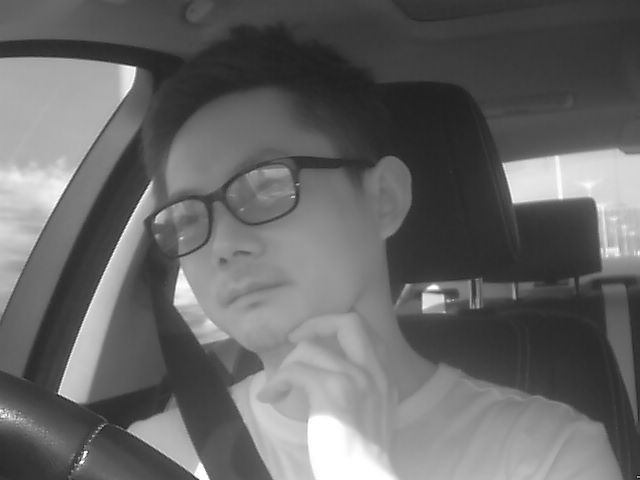hand: (252, 315, 402, 478)
